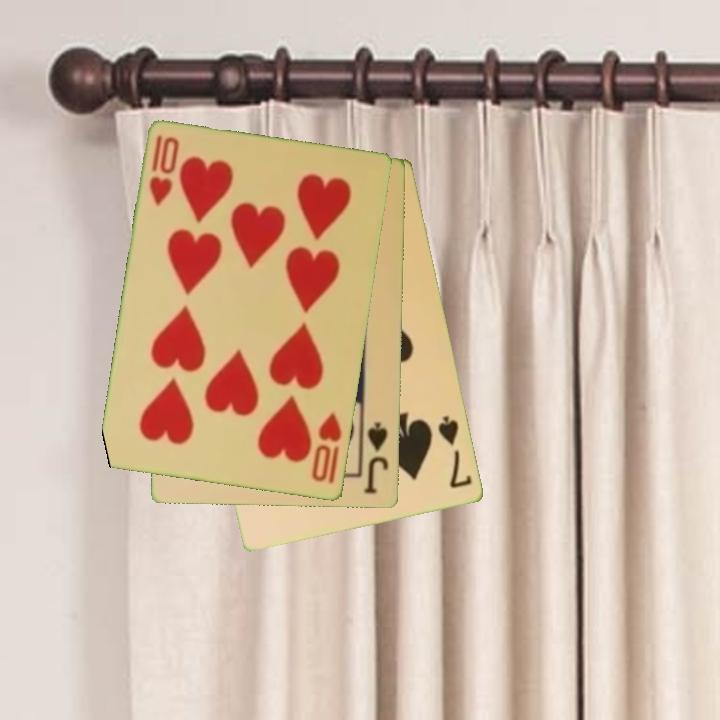10h: (308, 408, 345, 487), (146, 132, 183, 210)
7s: (435, 412, 475, 491)
Js: (360, 419, 392, 497)
